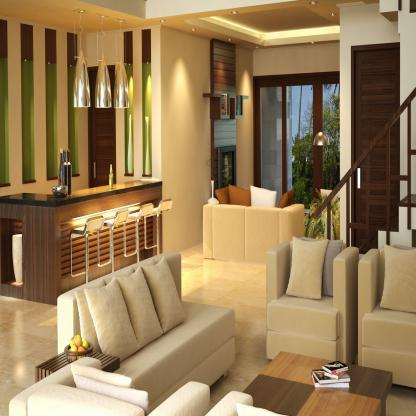bantal: (90, 259, 187, 357), (380, 247, 416, 316), (288, 240, 324, 300)
buku: (311, 360, 353, 393)
sova: (58, 255, 242, 389), (263, 237, 358, 369), (357, 248, 416, 369)
